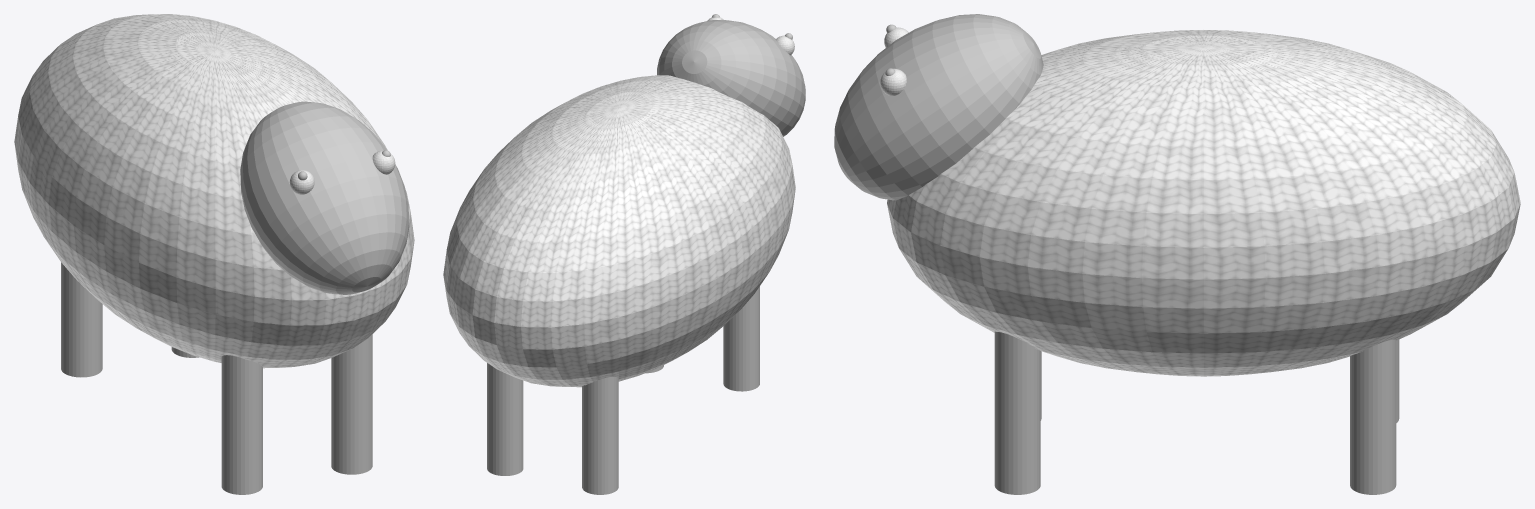
The model's file is Ovca.gltf.
The picture shows the model from 3 angles, left to right: view 1: azimuth 30°, elevation 25°; view 2: azimuth 150°, elevation 25°; view 3: azimuth 270°, elevation 25°; orthographic projection. The views are drawn at different scales.
Parts seen in each view (by area): view 1: Sphere.002; view 2: Sphere.002; view 3: Sphere.002.
Part boxes in pixels (x1,y1,x2,y2): Sphere.002: (14, 14, 414, 494); Sphere.002: (443, 14, 805, 494); Sphere.002: (834, 14, 1520, 494).
Size of the model in its own units: 6.14 by 8.03 by 11.65.
